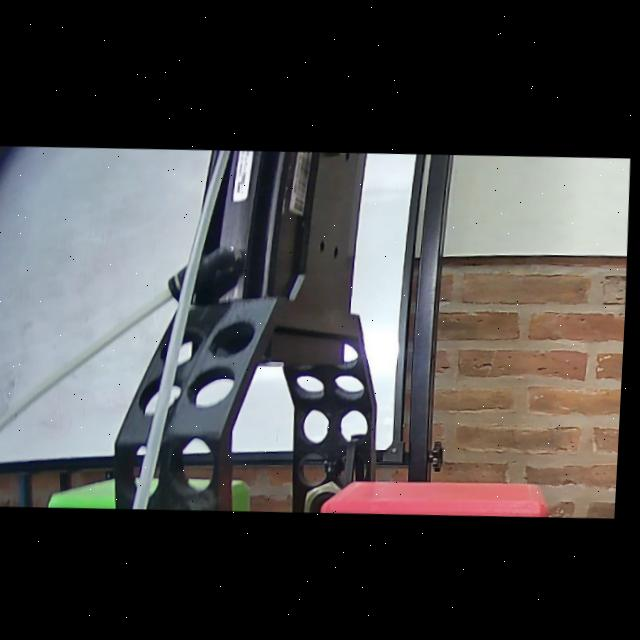greenBox: (47, 468, 265, 513)
redBox: (320, 467, 565, 516)
